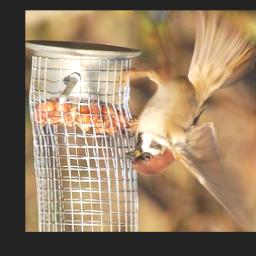Sparrow: (117, 10, 256, 232)
